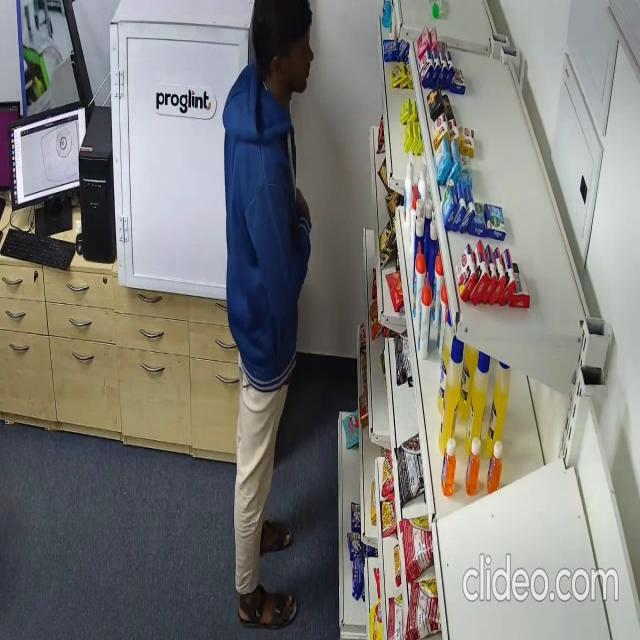Shoplifting: (221, 0, 320, 640)
